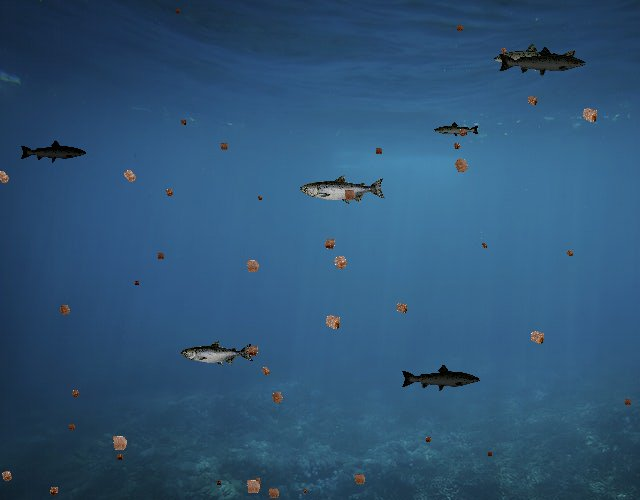Fish: (498, 45, 588, 78), (492, 42, 578, 73), (300, 174, 386, 205), (401, 363, 482, 392), (182, 341, 255, 367), (19, 140, 87, 164), (433, 121, 480, 138)
Pellet: (104, 428, 134, 458), (239, 252, 266, 279), (242, 340, 264, 362), (0, 465, 18, 487), (372, 144, 386, 158), (177, 116, 190, 129)
